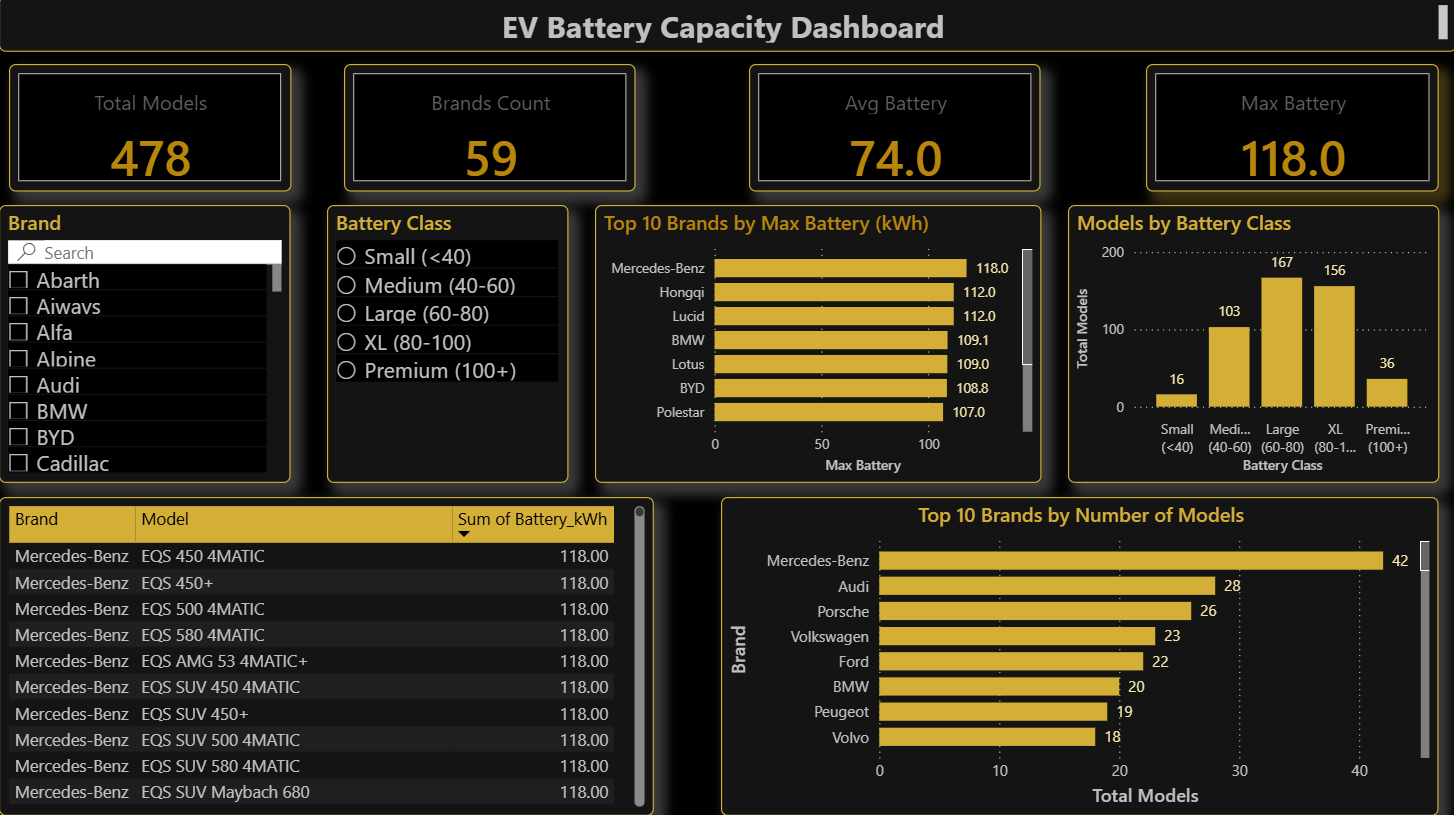

The dashboard page shown, as its layout file describes it:
{"tool":"powerbi","page":{"name":"Page 1","canvas":[1280,720],"ordinal":0},"visuals":[{"type":"cardVisual","fields":{"Data":["Battery_Report.Total Models"]},"box":[8.8,59.7,247.6,111.5],"z":0},{"type":"cardVisual","fields":{"Data":["Battery_Report.Brands Count"]},"box":[302.9,59.7,256.4,111.5],"z":1000},{"type":"cardVisual","fields":{"Data":["Battery_Report.Avg Battery"]},"box":[658.5,59.7,256.4,111.5],"z":2000},{"type":"cardVisual","fields":{"Data":["Battery_Report.Max Battery"]},"box":[1007.1,59.7,257.3,111.5],"z":3000},{"type":"barChart","title":"Top 10 Brands by Max Battery (kWh)","fields":{"Category":["Battery_Report.Brand"],"Y":["Battery_Report.Max Battery"]},"box":[523.3,183.5,391.6,244.1],"z":4000},{"type":"columnChart","title":"Models by Battery Class","fields":{"Category":["Battery_Report.Battery Class"],"Y":["Battery_Report.Total Models"]},"box":[938.6,183.5,325.8,244.1],"z":5000},{"type":"clusteredBarChart","title":"Top 10 Brands by Number of Models","fields":{"Y":["Battery_Report.Total Models"],"Category":["Battery_Report.Brand"]},"box":[634,439.9,630.4,280.1],"z":6000},{"type":"listSlicer","fields":{"Values":["Battery_Report.Brand"]},"box":[0,183.5,256.4,244.1],"z":7000},{"type":"listSlicer","fields":{"Values":["Battery_Report.Battery Class"]},"box":[288,183.5,211.6,244.1],"z":8000},{"type":"tableEx","fields":{"Values":["Battery_Report.Brand","Battery_Report.Model","Sum(Battery_Report.Battery_kWh)"]},"box":[0,439.9,575.1,280.1],"z":9000},{"type":"textbox","box":[0,0,1280,48.6],"z":10000}]}

Visuals, with their boxes in screenshot pixels (x1, y1, x2, y2), scaled from the page's 1280x720 canvas onto the 1454x815 screenshot:
cardVisual - Battery_Report.Total Models: rect(10, 68, 291, 194)
cardVisual - Battery_Report.Brands Count: rect(344, 68, 635, 194)
cardVisual - Battery_Report.Avg Battery: rect(748, 68, 1039, 194)
cardVisual - Battery_Report.Max Battery: rect(1144, 68, 1436, 194)
"Top 10 Brands by Max Battery (kWh)" barChart: rect(594, 208, 1039, 484)
"Models by Battery Class" columnChart: rect(1066, 208, 1436, 484)
"Top 10 Brands by Number of Models" clusteredBarChart: rect(720, 498, 1436, 814)
listSlicer - Battery_Report.Brand: rect(0, 208, 291, 484)
listSlicer - Battery_Report.Battery Class: rect(327, 208, 568, 484)
tableEx - Battery_Report.Brand x Battery_Report.Model: rect(0, 498, 653, 814)
textbox: rect(0, 0, 1453, 55)
